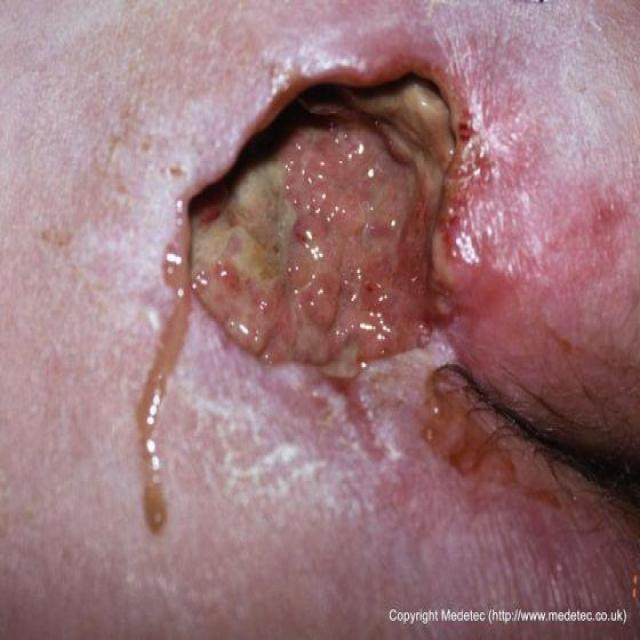stage-4: (191, 79, 454, 378)
